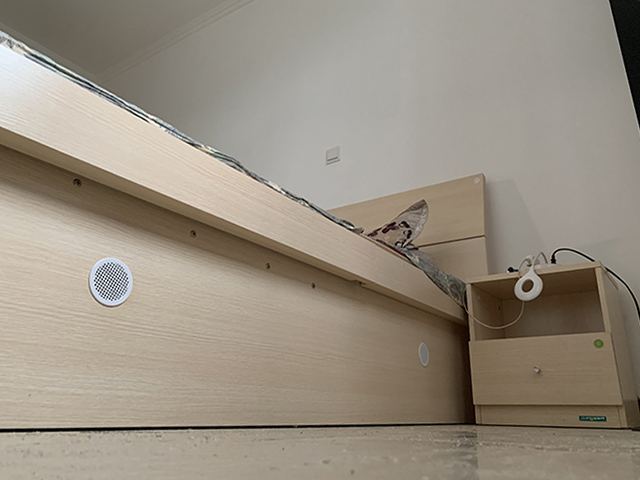bed: (1, 26, 490, 434)
cabinet: (461, 260, 639, 432)
